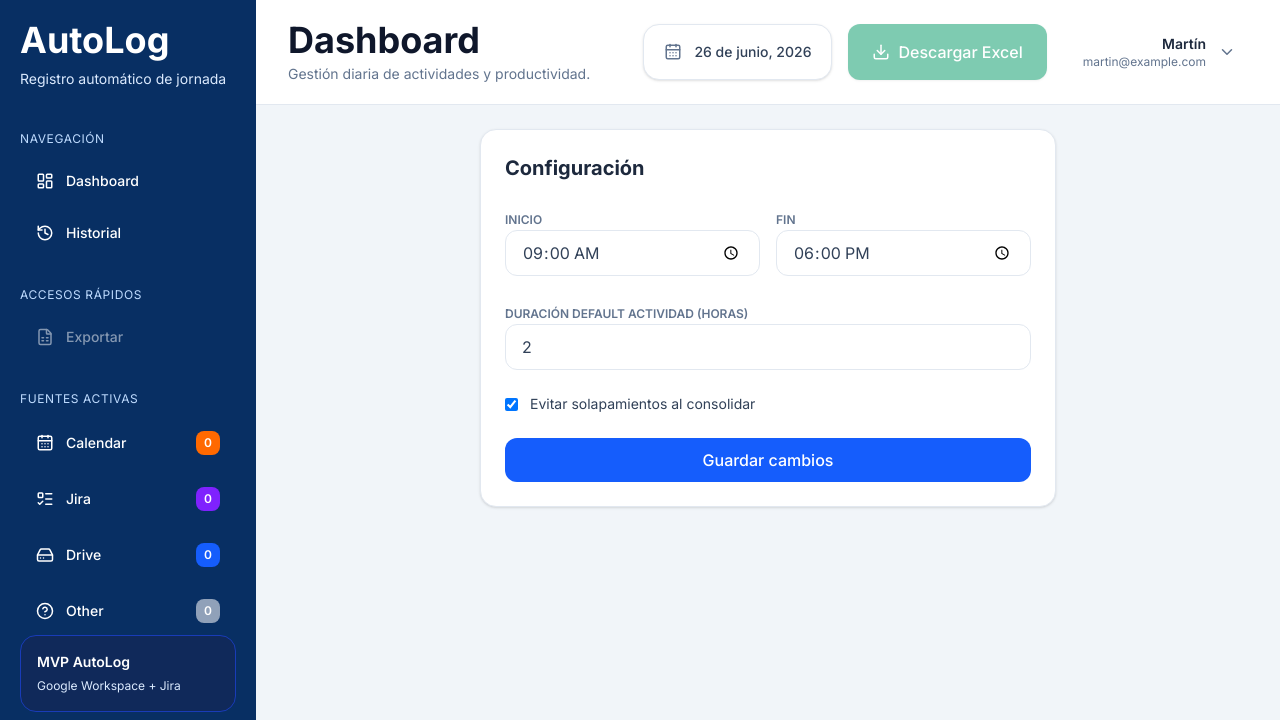
Test: Settings › saves the edited settings and confirms success
This screenshot has width=1280, height=720.
Check: the heading "Configuración" is shown, box [505,156,644,180]
Replace the text in the time field showing "09:00" below "Inicio" with "08:30": x=632, y=253 [505,230,760,276]
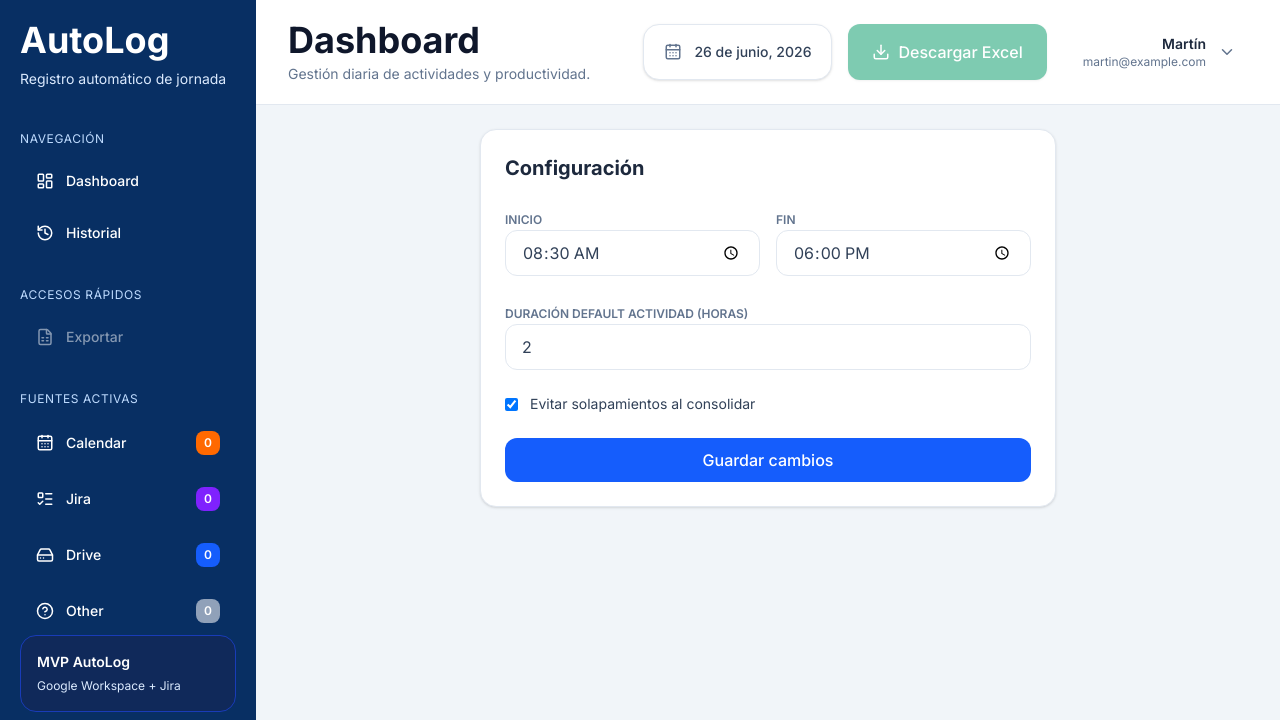
Click the checkbox: x=512, y=404 [505,398,518,410]
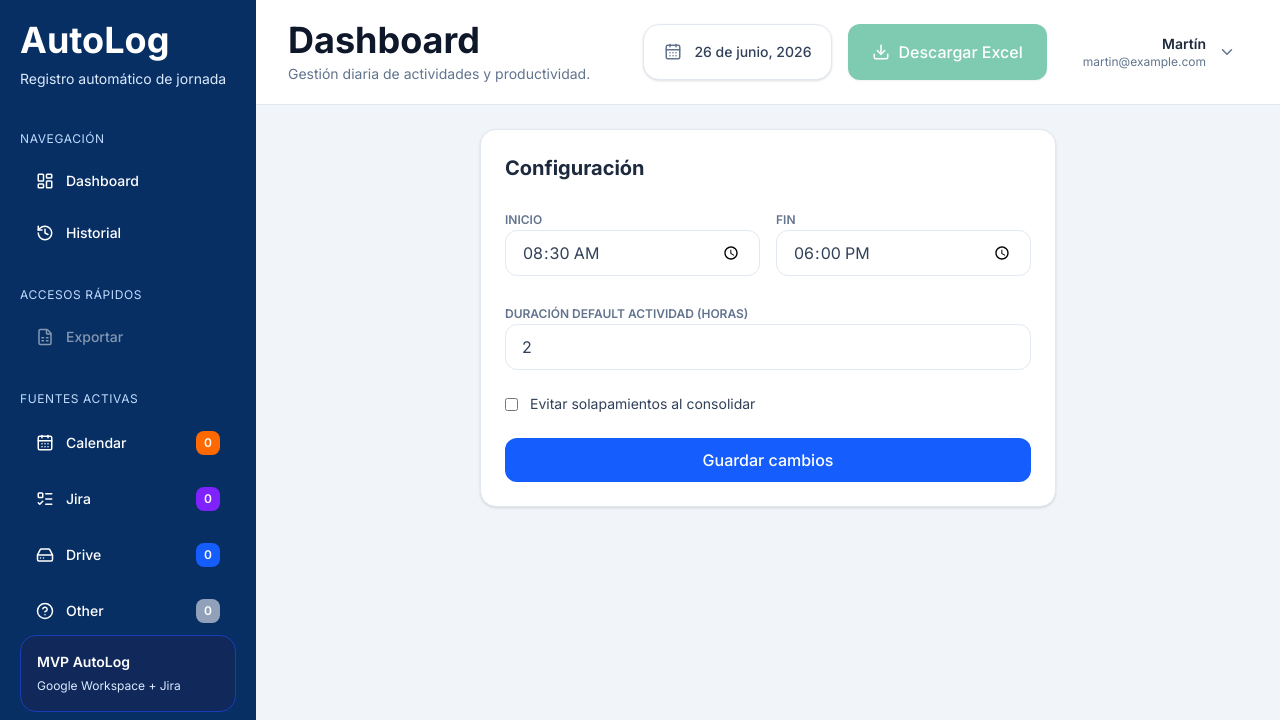
Click the button "Guardar cambios": x=768, y=460 [505,438,1031,482]
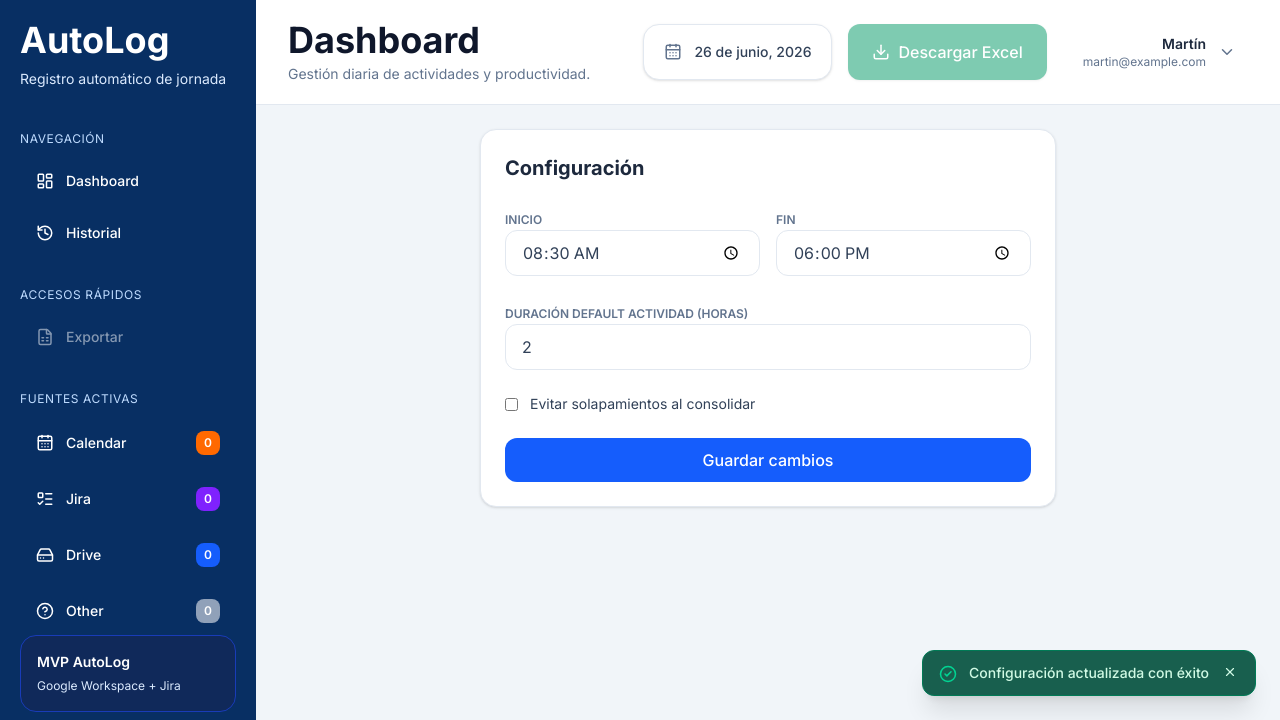
Check: the text "Configuración actualizada con éxito" is shown, box [969,663,1209,683]
